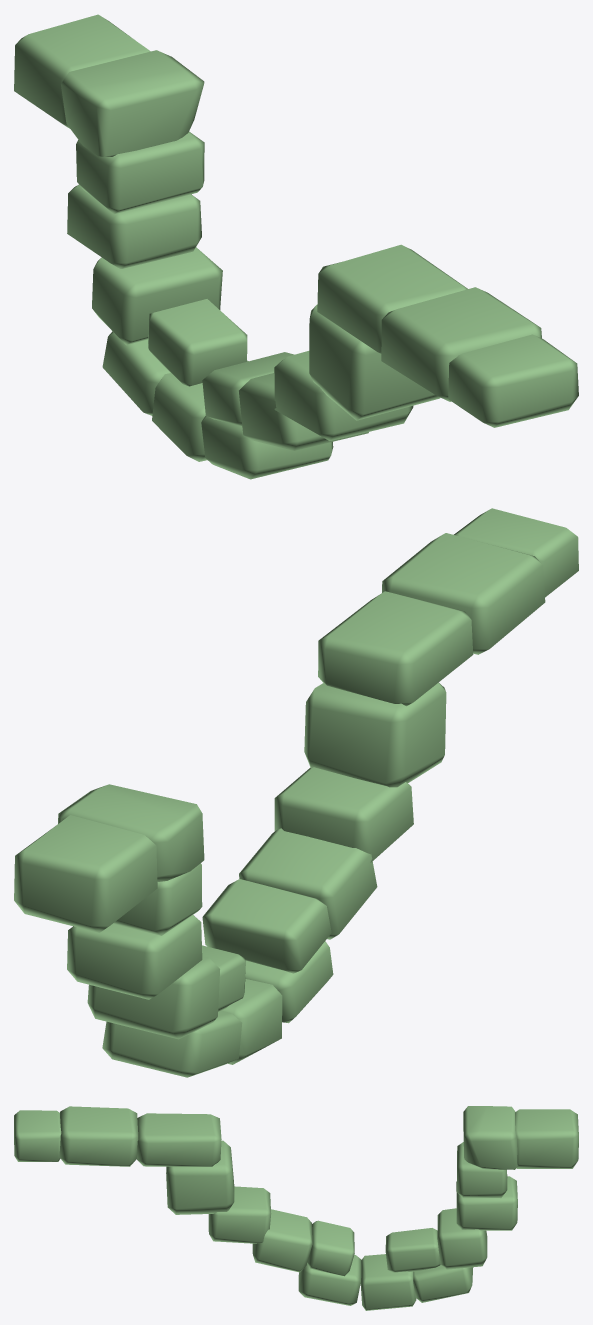
The model's file is Wall_Battlements_02_Break_Lod0.fbx.
3 views of the same model, one above another, from view 1: azimuth 30°, elevation 25°; view 2: azimuth 150°, elevation 25°; view 3: azimuth 270°, elevation 25° (orthographic). The views are drawn at different scales.
Parts seen in each view (by area): view 1: Wall_Battlements_02_Break_Lod0; view 2: Wall_Battlements_02_Break_Lod0; view 3: Wall_Battlements_02_Break_Lod0.
Part boxes in pixels (bbox=[...]): Wall_Battlements_02_Break_Lod0: bbox=[14, 14, 578, 479]; Wall_Battlements_02_Break_Lod0: bbox=[14, 508, 578, 1077]; Wall_Battlements_02_Break_Lod0: bbox=[14, 1106, 578, 1310].
Bounding box in the file's own units: 41.03 × 108 × 305.
